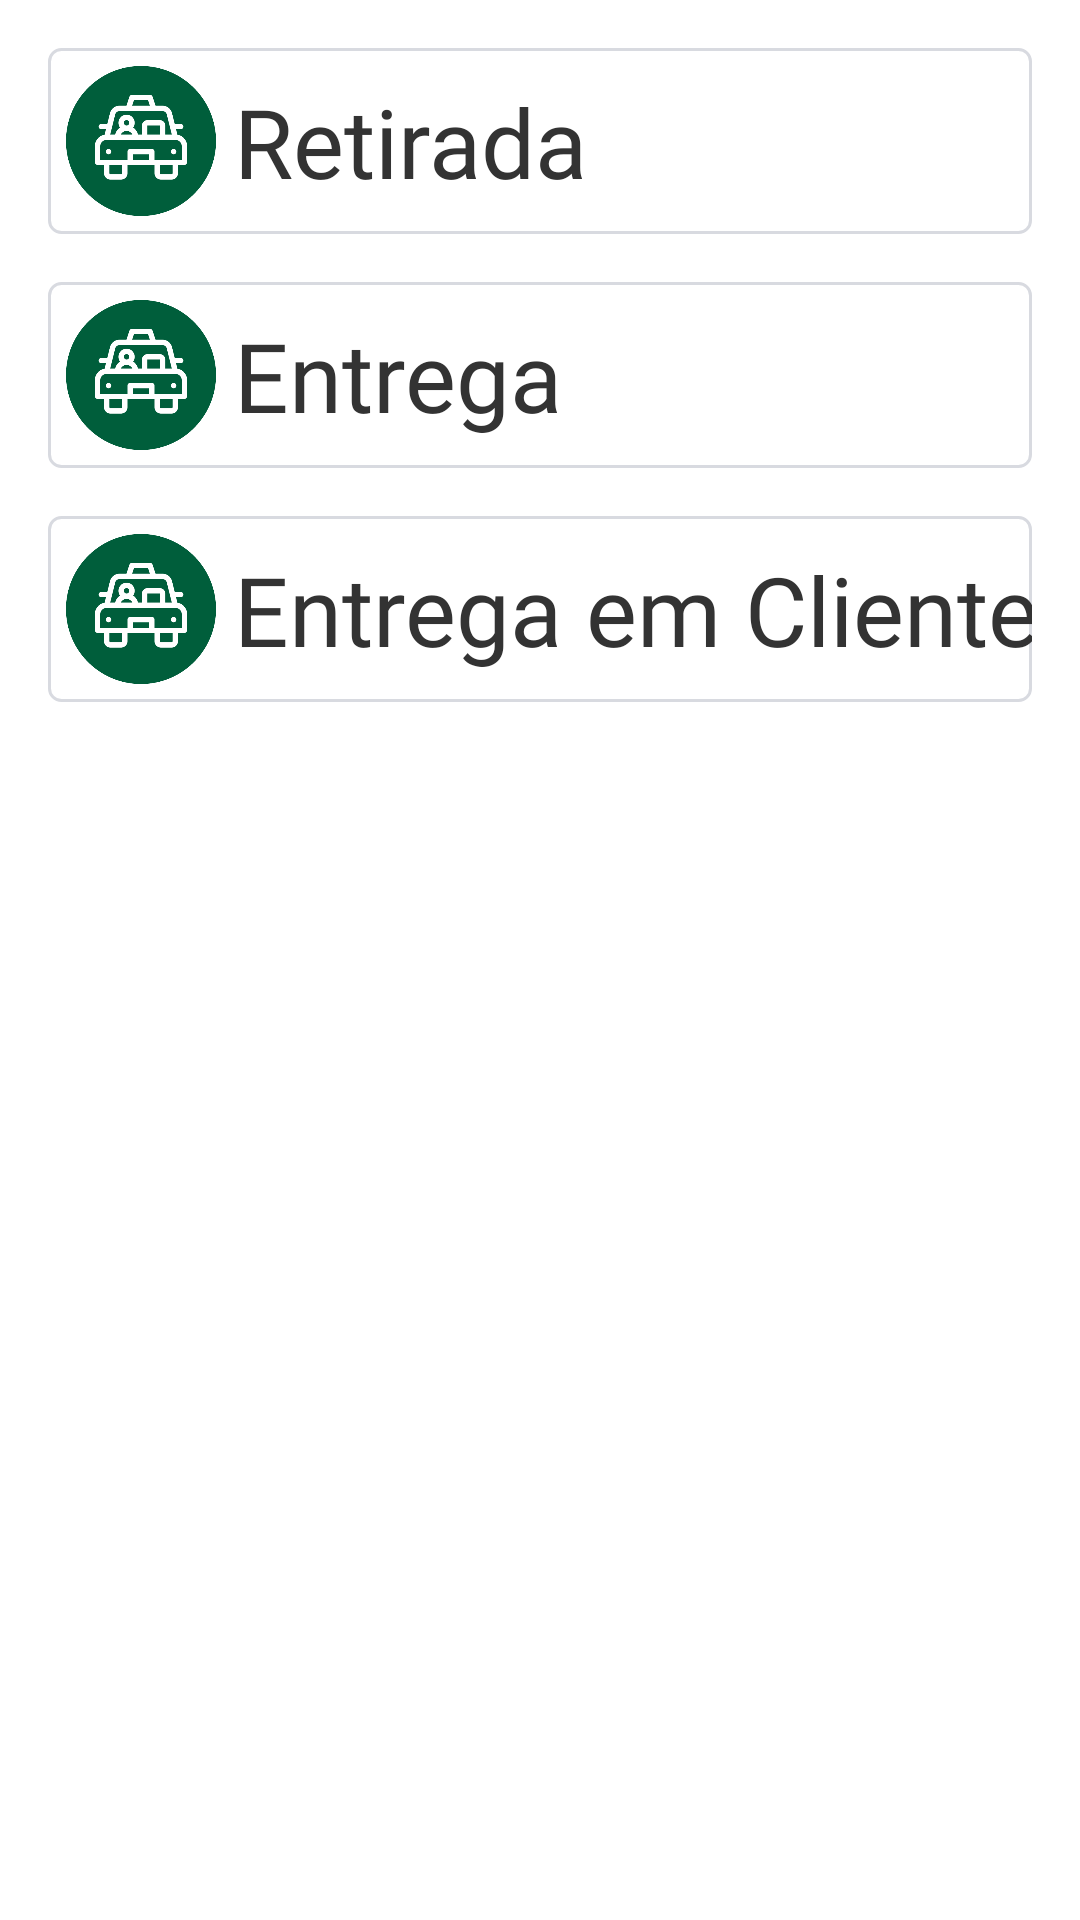

Locate icon controls on the screen. Image size 1080×1920, boxes as (x1, y1, x2, y2).
geral displacement: (66, 66, 216, 216), (66, 300, 216, 450), (66, 534, 216, 684)
